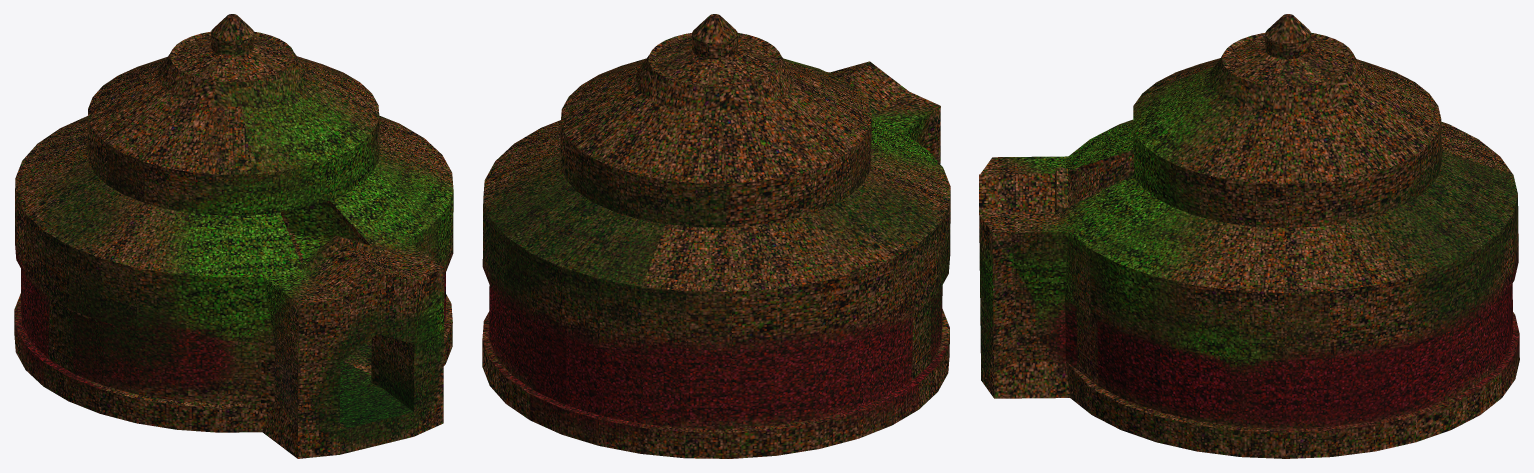
The model's file is tend_2.fbx.
3 views of the same model, side by side, from view 1: azimuth 30°, elevation 25°; view 2: azimuth 150°, elevation 25°; view 3: azimuth 270°, elevation 25° (orthographic). The views are drawn at different scales.
Parts seen in each view (by area): view 1: Cylinder; view 2: Cylinder; view 3: Cylinder.
Part boxes in pixels (<box>): Cylinder: <box>14,14,453,458</box>; Cylinder: <box>482,14,950,458</box>; Cylinder: <box>979,14,1519,458</box>.
Bounding box in the file's own units: 8006 × 6528 × 9260.
